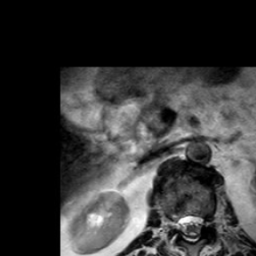CCS_normal: (186, 202, 194, 250)
LFS_stenosis: (203, 206, 212, 236)
LLS_normal: (194, 203, 203, 244)
RFS_normal: (168, 206, 177, 239)
RLS_normal: (177, 206, 186, 241)
